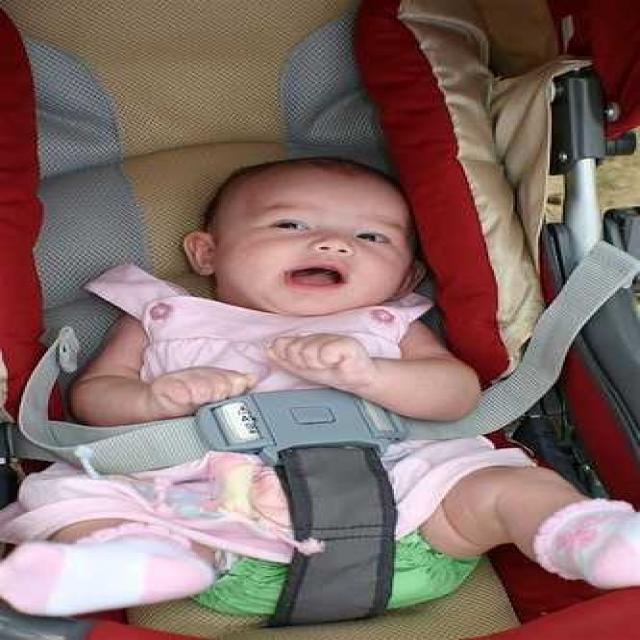seatbelt: (1, 235, 586, 466)
